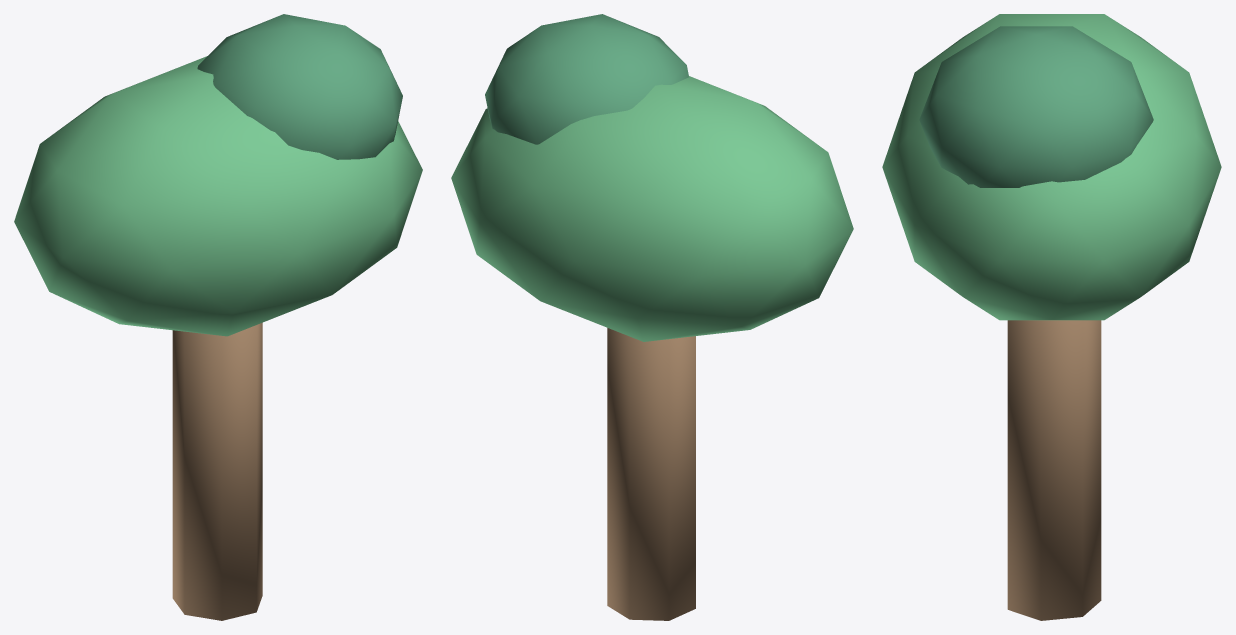
Rendered from ENV_Forest_Tree_B.fbx.
The picture shows the model from 3 angles, left to right: view 1: azimuth 30°, elevation 25°; view 2: azimuth 150°, elevation 25°; view 3: azimuth 270°, elevation 25°; orthographic projection. The views are drawn at different scales.
Visible parts, largest first — view 1: ENV_Forest_Tree_B; view 2: ENV_Forest_Tree_B; view 3: ENV_Forest_Tree_B.
Boxes of the visible parts, bbox=[...] form: ENV_Forest_Tree_B: bbox=[14, 14, 422, 620]; ENV_Forest_Tree_B: bbox=[451, 14, 853, 620]; ENV_Forest_Tree_B: bbox=[882, 14, 1221, 620].
Bounding box in the file's own units: 1.44 × 2.15 × 1.1.
